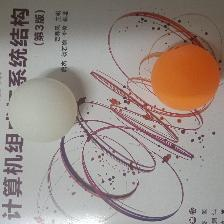WhiteBall: (8, 77, 76, 143)
YellowBall: (150, 44, 219, 111)
